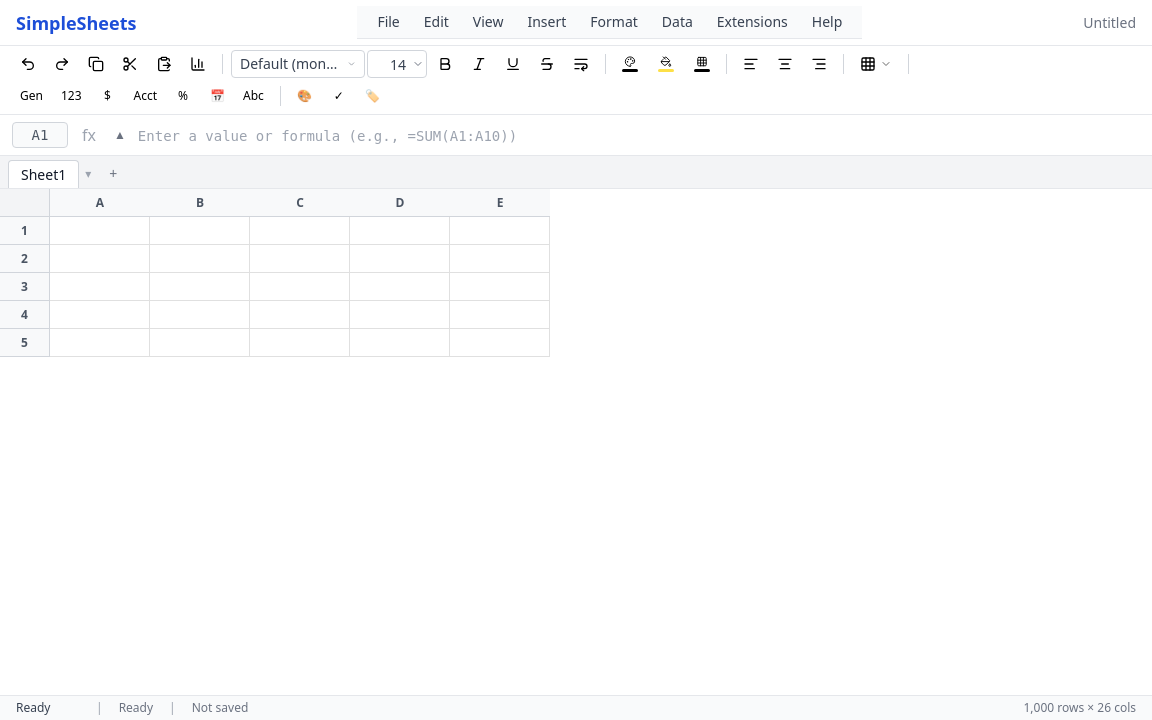
Test: App - Insert/Delete Row/Column › inserts a row above via Insert menu
Note: Select a cell first
Press the mouse on the 1st element with class "grid-cell" at {"x": 100, "y": 231}, box [50, 217, 150, 245]
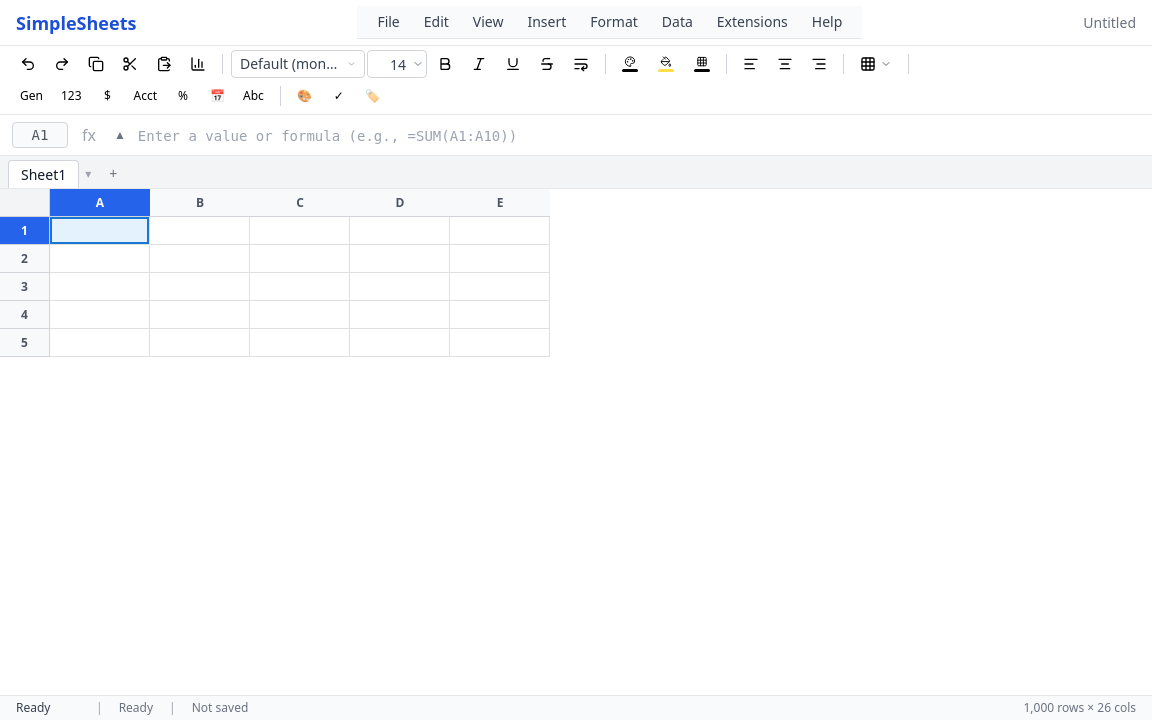
Note: Open Insert menu
Click the button "Insert" at {"x": 547, "y": 22}, box [516, 8, 578, 36]
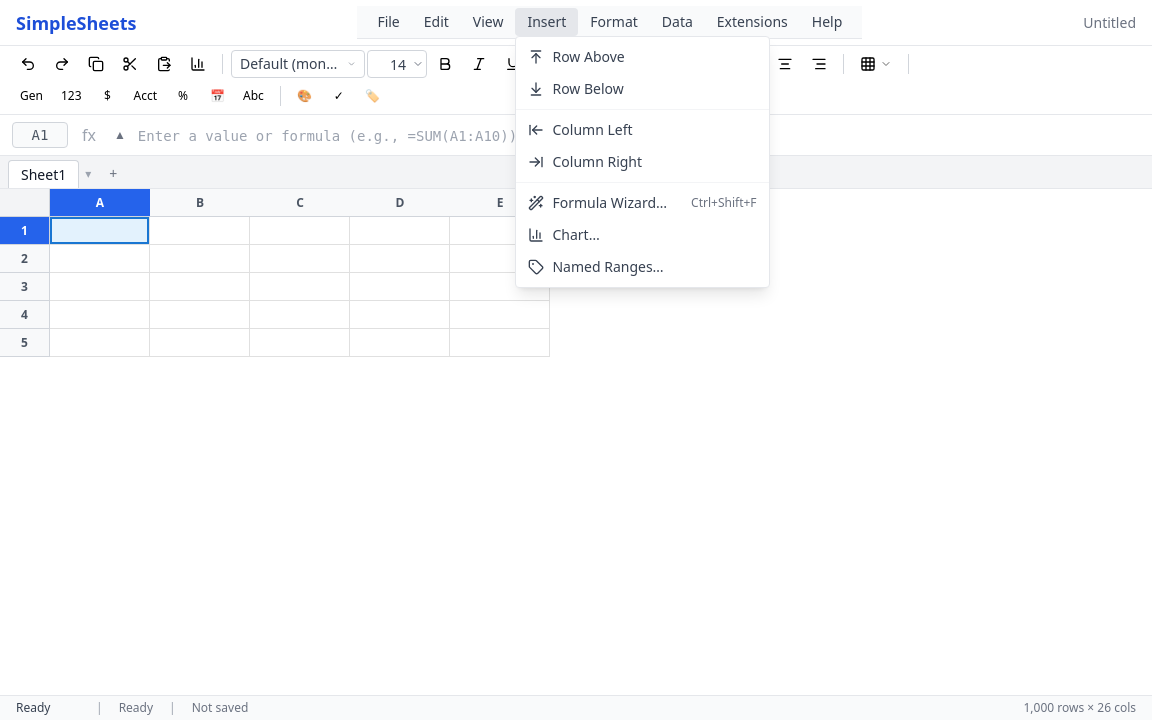
Click the menu item "Row Above" at {"x": 577, "y": 56}, box [528, 47, 625, 66]
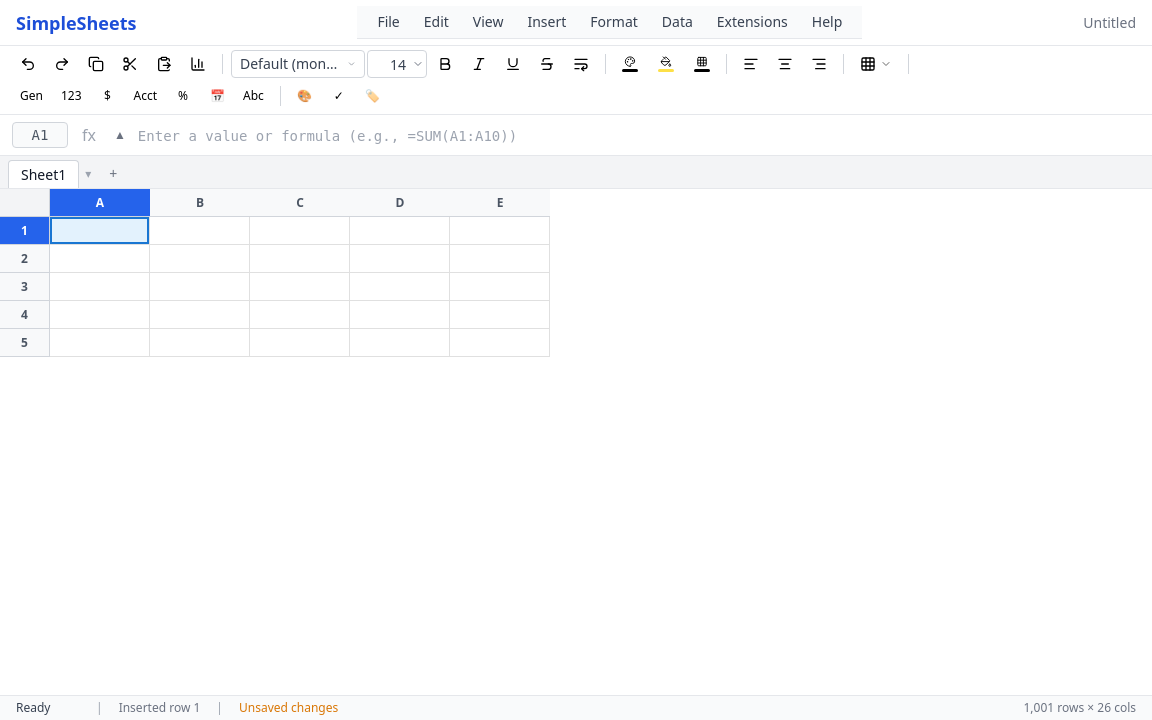
Check: the text with test id "status-message" shows "Inserted row", box [119, 699, 200, 716]
